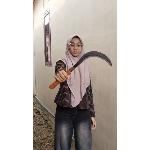Celurit: (52, 48, 117, 91)
